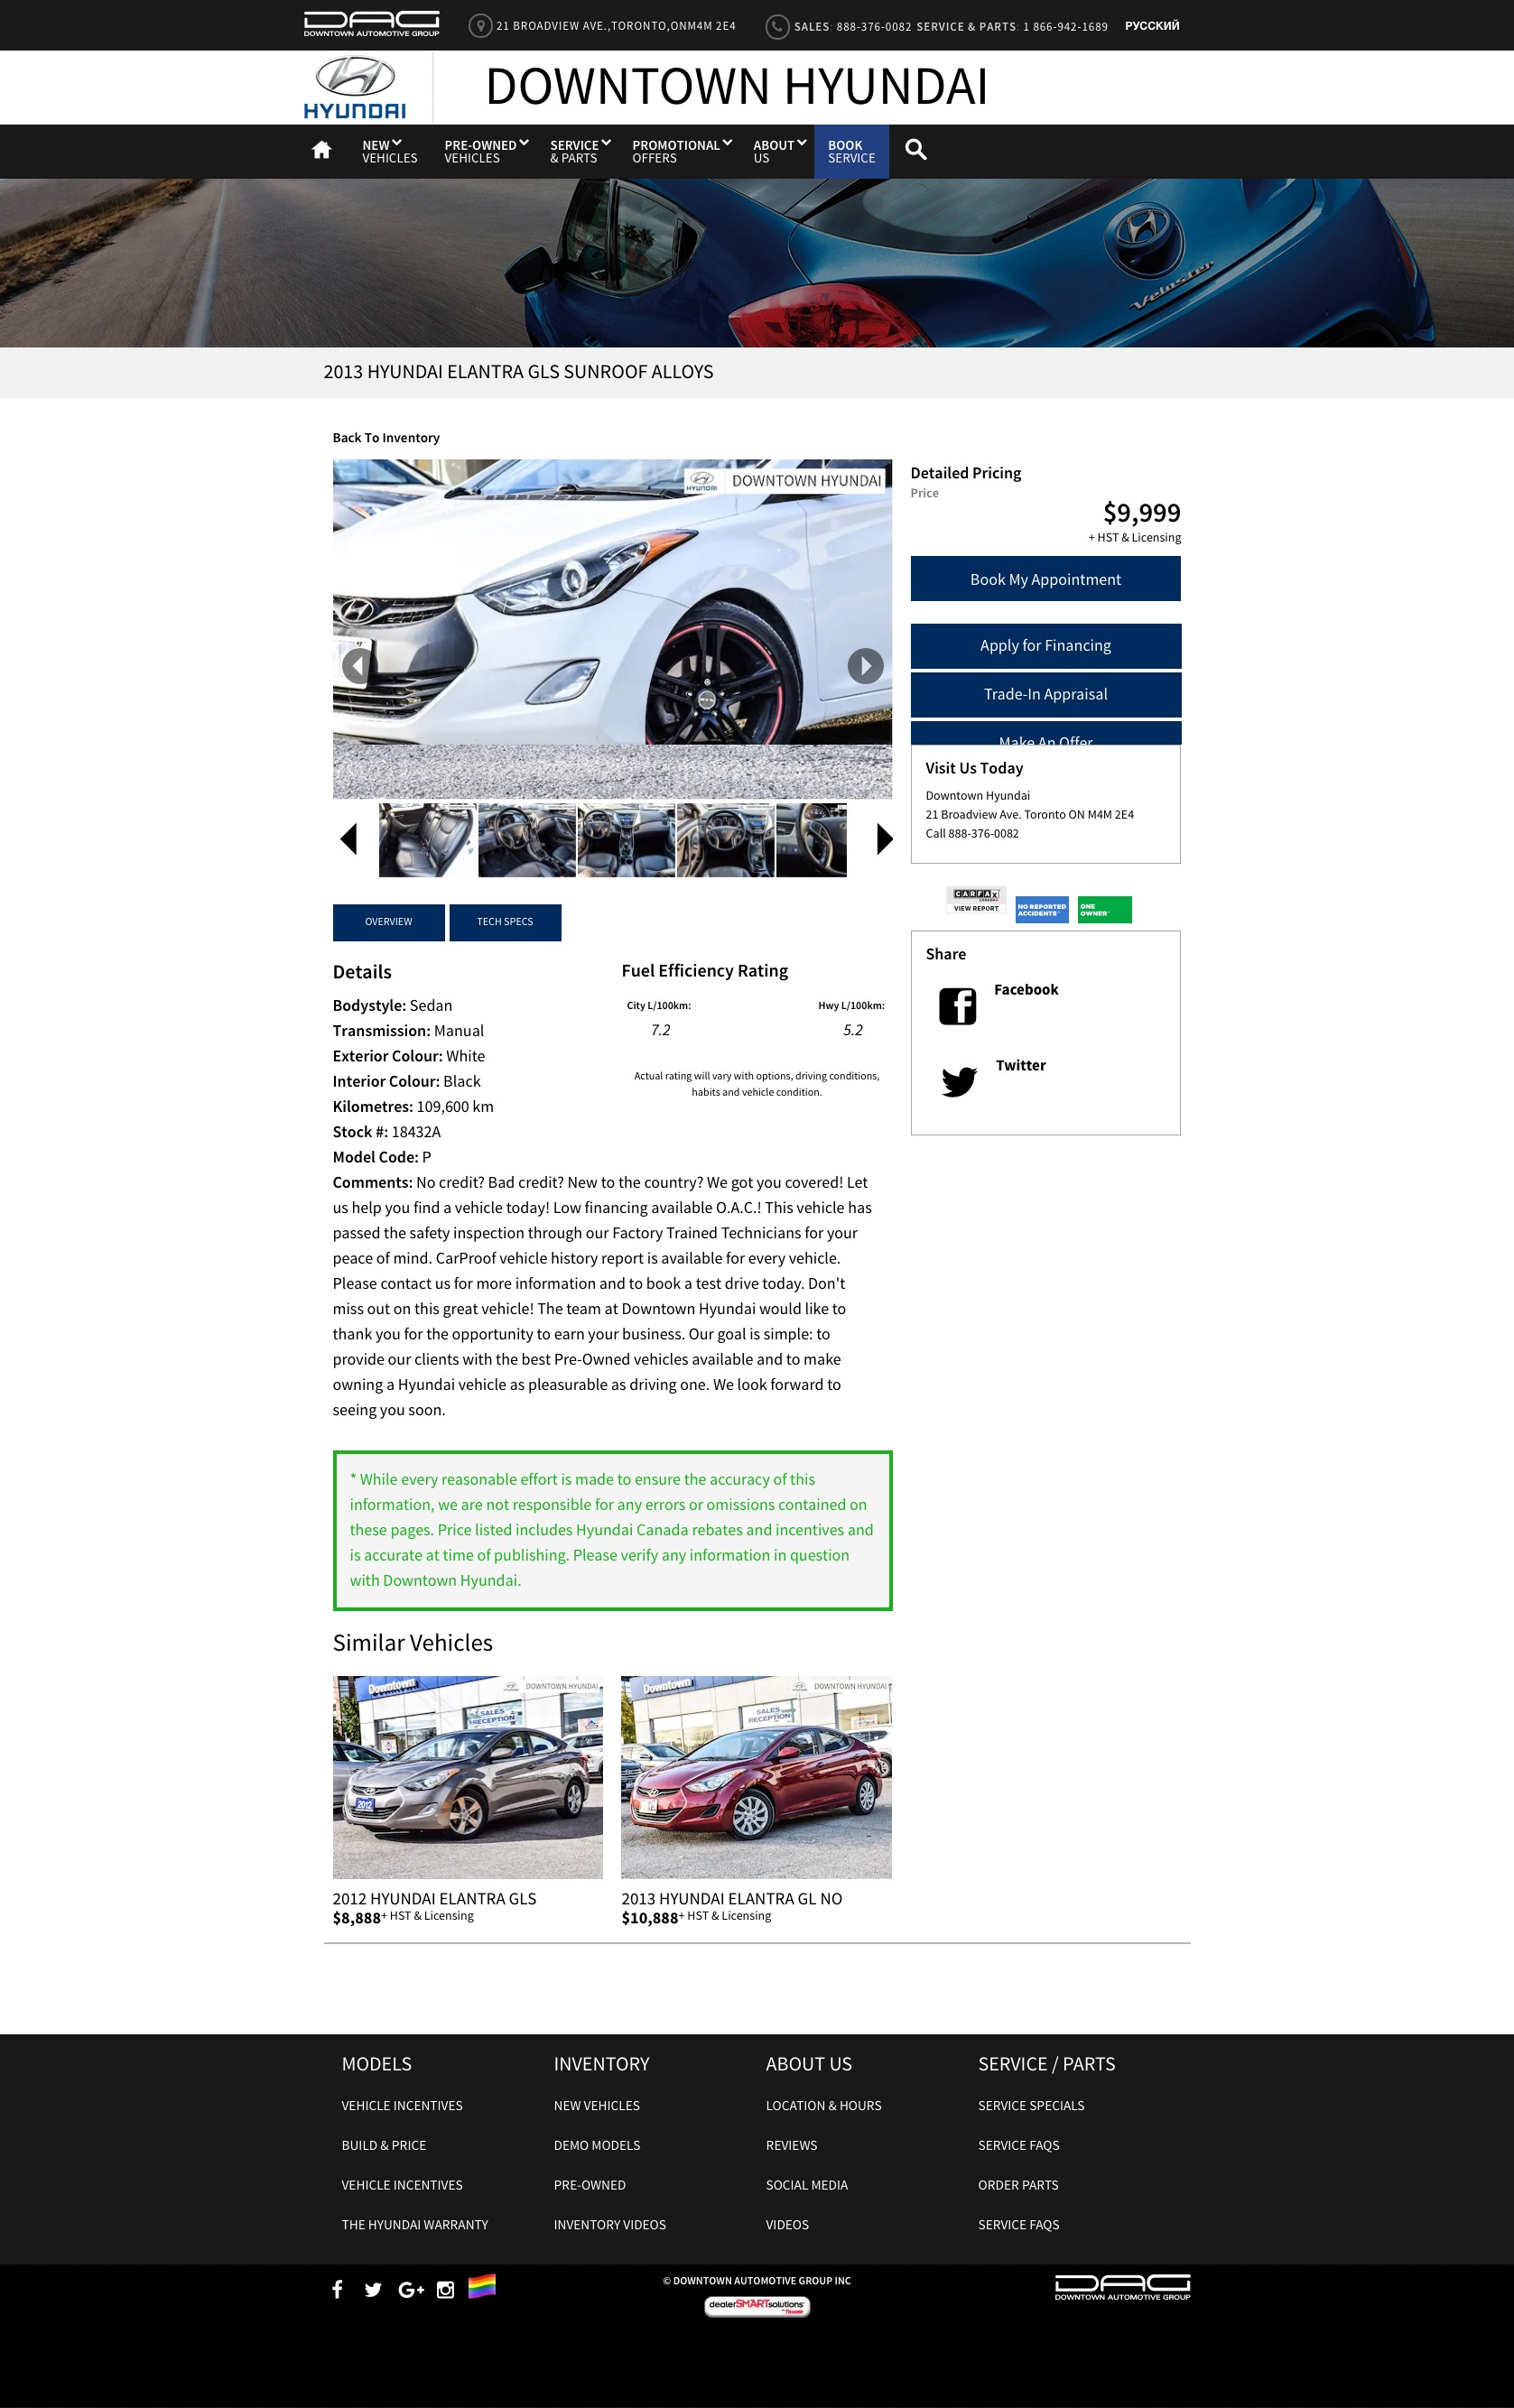car: (876, 823, 895, 856)
